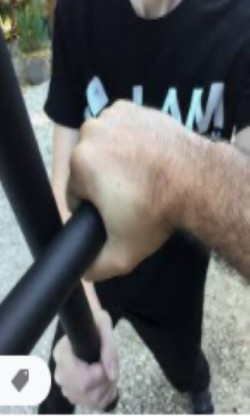baston_e: (5, 56, 83, 349), (14, 223, 91, 329)
